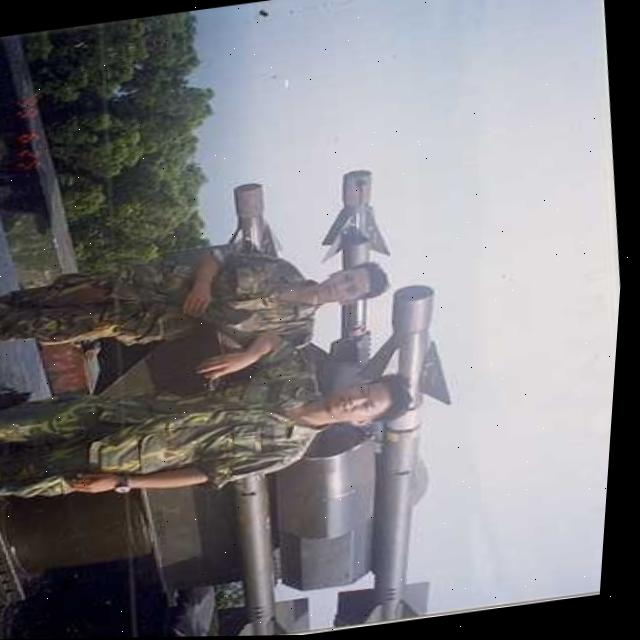missile: (331, 280, 492, 626), (318, 163, 413, 359)
